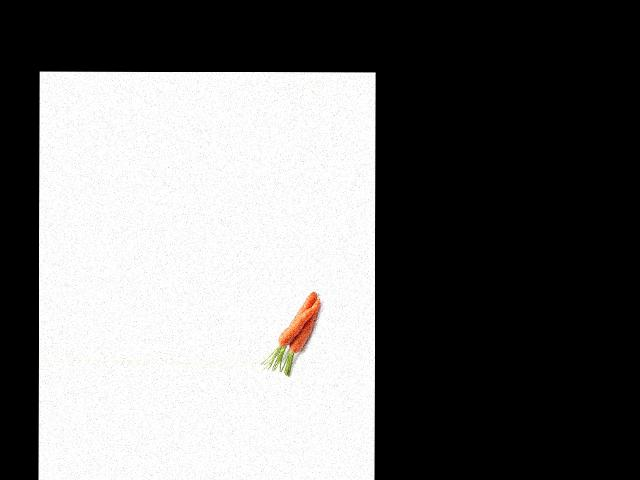carrot: (289, 292, 317, 327)
